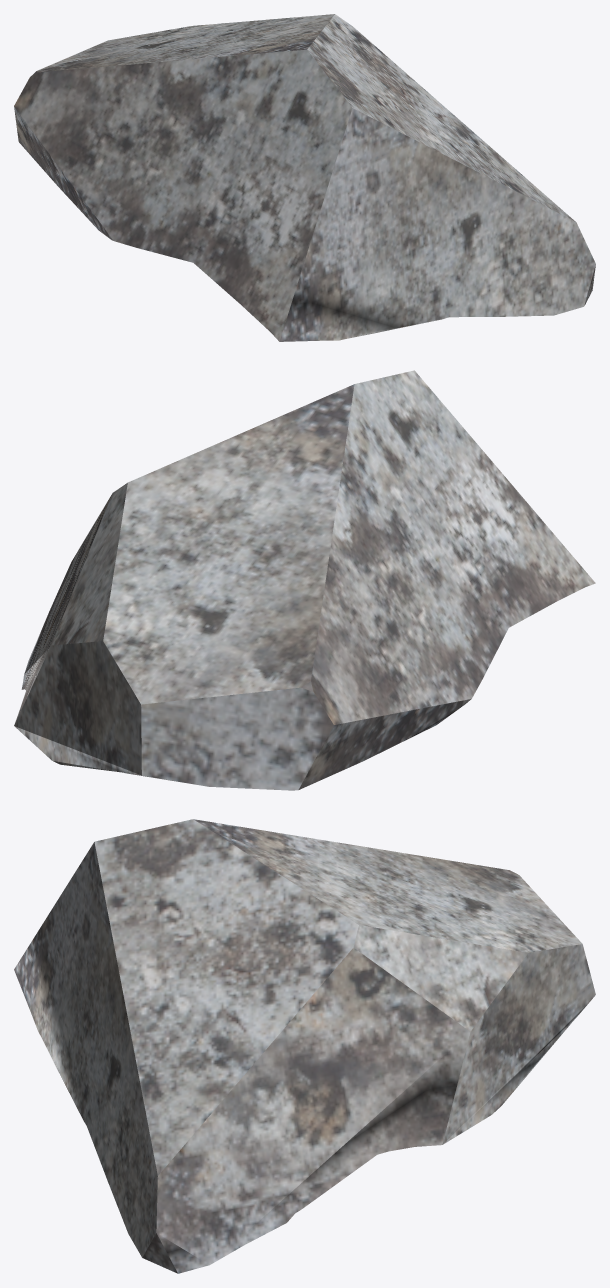
Rendered from Asteroid_Large_001_02_008_03_023.fbx.
3 views of the same model, one above another, from view 1: azimuth 30°, elevation 25°; view 2: azimuth 150°, elevation 25°; view 3: azimuth 270°, elevation 25° (orthographic). The views are drawn at different scales.
Parts seen in each view (by area): view 1: Asteroid_Large_001_02_008_03_023; view 2: Asteroid_Large_001_02_008_03_023; view 3: Asteroid_Large_001_02_008_03_023.
Part boxes in pixels (box(x1,y1,x2,y2)): Asteroid_Large_001_02_008_03_023: box(14, 14, 595, 341); Asteroid_Large_001_02_008_03_023: box(14, 370, 595, 790); Asteroid_Large_001_02_008_03_023: box(14, 819, 595, 1273).
Size of the model in its own units: 9.71 by 6.65 by 11.16.
